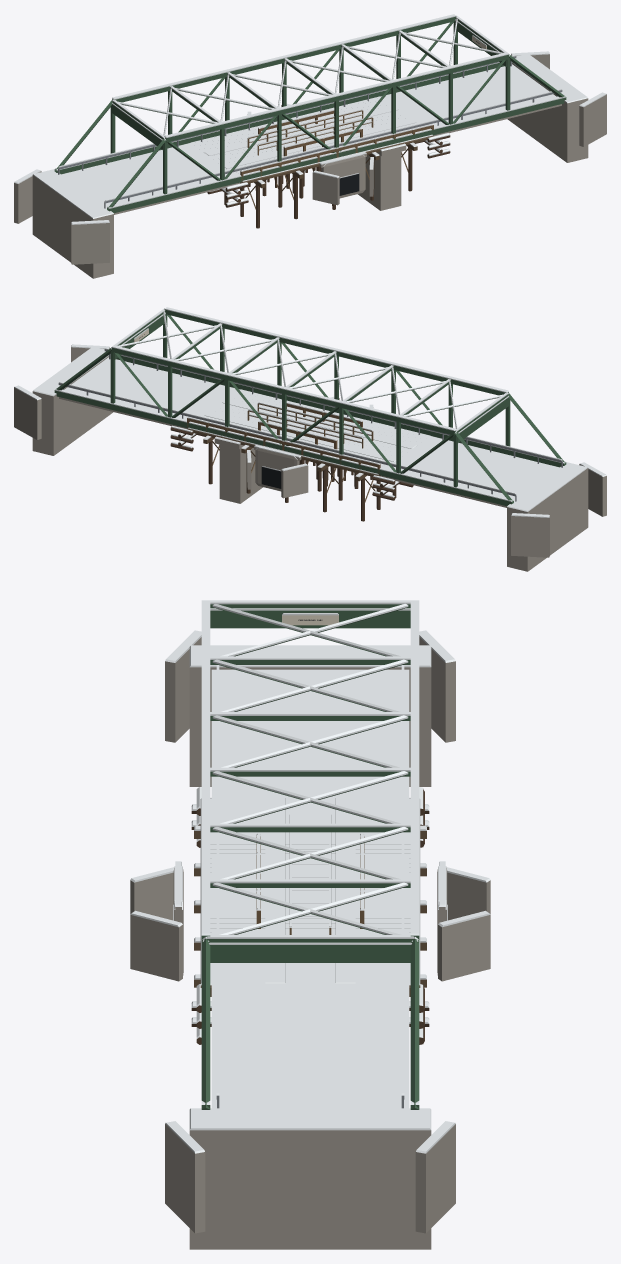
Rendered from bridges_library.glb.
3 views of the same model, one above another, from view 1: azimuth 30°, elevation 25°; view 2: azimuth 150°, elevation 25°; view 3: azimuth 270°, elevation 25° (orthographic). The views are drawn at different scales.
Parts seen in each view (by area): view 1: bridge_truss_main, bridge_truss_snow, bridge_trestle_snow, bridge_trestle_main, bridge_culvert_main, bridge_footbridge_main, bridge_footbridge_snow, bridge_trail_trestle_bay_main, bridge_trail_trestle_bay_snow; view 2: bridge_truss_main, bridge_truss_snow, bridge_trestle_snow, bridge_trestle_main, bridge_culvert_main, bridge_footbridge_main, bridge_footbridge_snow, bridge_trail_trestle_bay_main, bridge_trail_trestle_bay_snow; view 3: bridge_truss_snow, bridge_truss_main, bridge_trestle_snow, bridge_culvert_main, bridge_culvert_snow, bridge_trestle_main, bridge_footbridge_snow, bridge_trail_trestle_bay_snow.
Part boxes in pixels (x1=…): bridge_truss_main: x1=14, y1=16, x2=606, y2=278; bridge_truss_snow: x1=14, y1=14, x2=606, y2=224; bridge_trestle_snow: x1=190, y1=96, x2=449, y2=205; bridge_trestle_main: x1=207, y1=125, x2=450, y2=228; bridge_culvert_main: x1=281, y1=105, x2=373, y2=205; bridge_footbridge_main: x1=247, y1=110, x2=373, y2=187; bridge_footbridge_snow: x1=248, y1=109, x2=372, y2=153; bridge_trail_trestle_bay_main: x1=258, y1=111, x2=362, y2=198; bridge_trail_trestle_bay_snow: x1=258, y1=109, x2=362, y2=153; bridge_truss_main: x1=14, y1=309, x2=606, y2=571; bridge_truss_snow: x1=14, y1=307, x2=606, y2=517; bridge_trestle_snow: x1=171, y1=389, x2=430, y2=497; bridge_trestle_main: x1=170, y1=418, x2=413, y2=521; bridge_culvert_main: x1=247, y1=398, x2=339, y2=498; bridge_footbridge_main: x1=247, y1=403, x2=373, y2=480; bridge_footbridge_snow: x1=248, y1=402, x2=372, y2=446; bridge_trail_trestle_bay_main: x1=258, y1=404, x2=362, y2=491; bridge_trail_trestle_bay_snow: x1=258, y1=402, x2=362, y2=446; bridge_truss_snow: x1=165, y1=600, x2=455, y2=1153; bridge_truss_main: x1=165, y1=604, x2=455, y2=1249; bridge_trestle_snow: x1=191, y1=787, x2=429, y2=1038; bridge_culvert_main: x1=130, y1=868, x2=490, y2=981; bridge_culvert_snow: x1=130, y1=861, x2=490, y2=927; bridge_trestle_main: x1=191, y1=789, x2=429, y2=1044; bridge_footbridge_snow: x1=289, y1=814, x2=331, y2=932; bridge_trail_trestle_bay_snow: x1=256, y1=833, x2=364, y2=926.
Size of the model in its own units: 56.22 by 13 by 16.4.
